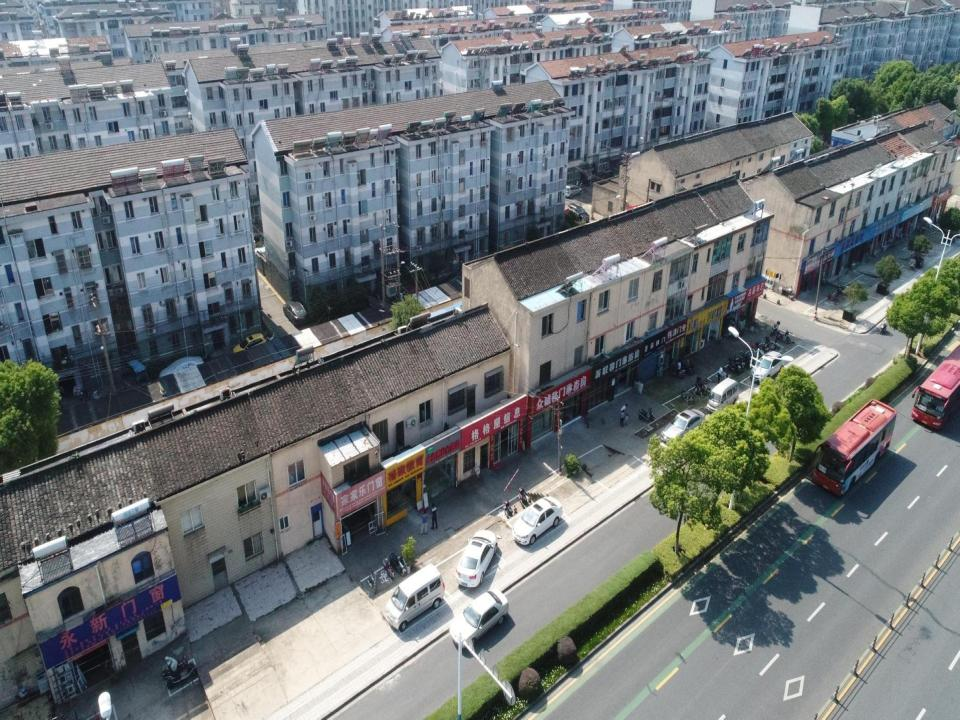bus: (808, 393, 899, 494), (910, 338, 959, 433)
car: (448, 586, 510, 648), (511, 497, 565, 548), (453, 526, 497, 588), (656, 404, 705, 450), (754, 346, 780, 382)
van: (381, 565, 445, 631), (704, 378, 742, 415)
